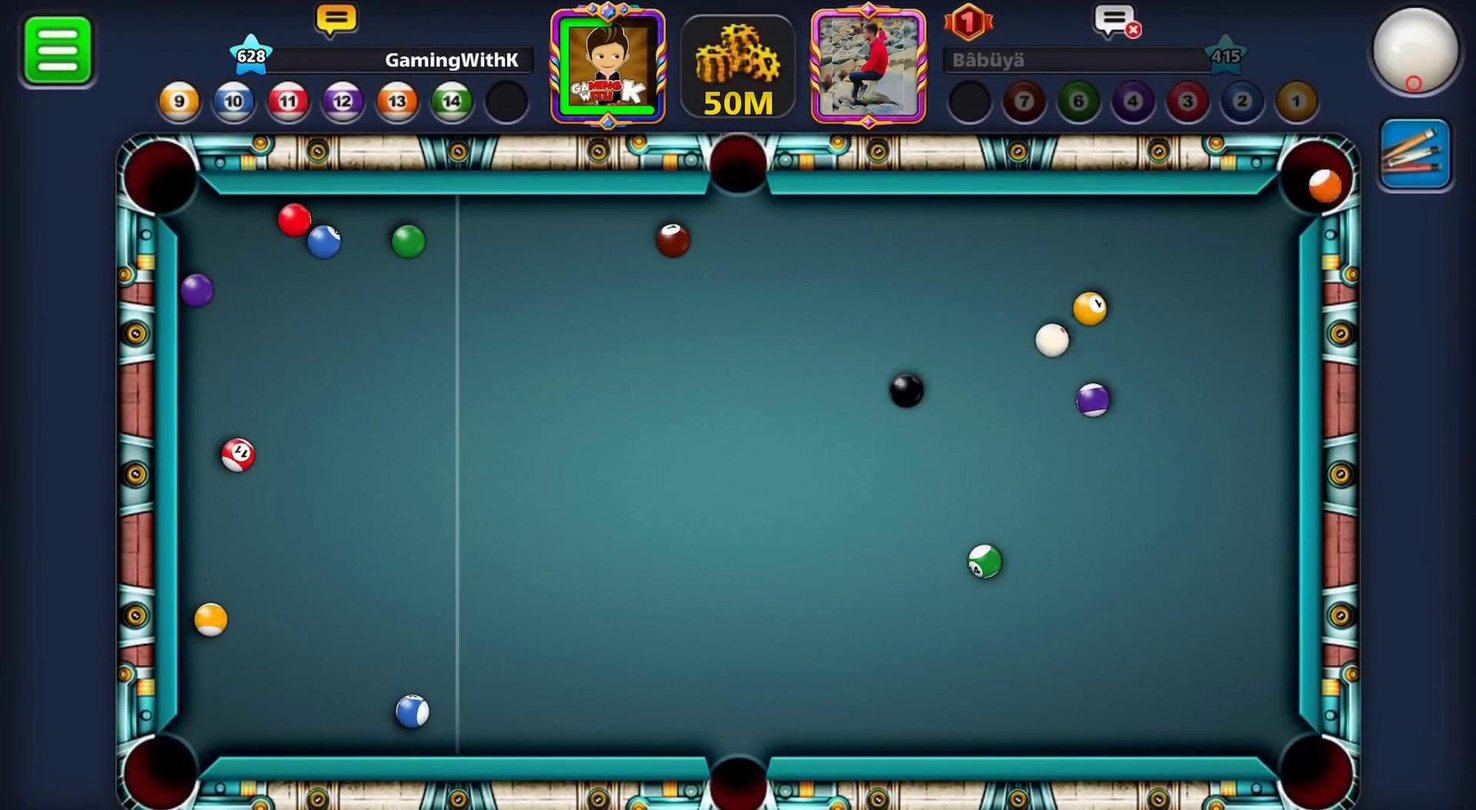Ball: (878, 365, 932, 415), (269, 193, 319, 244), (645, 217, 699, 262), (297, 221, 346, 268), (962, 539, 1005, 587), (176, 265, 217, 313), (1071, 286, 1112, 330), (391, 692, 430, 731), (191, 599, 229, 639), (1074, 380, 1111, 418), (387, 222, 425, 259), (218, 433, 254, 472)
Hole: (111, 123, 221, 233), (102, 718, 221, 809), (1261, 714, 1364, 809), (1269, 126, 1359, 226), (692, 125, 787, 216), (691, 739, 783, 809)
Play_Area: (177, 195, 1296, 758)
Spin: (1357, 0, 1474, 118)
White: (1031, 316, 1075, 359)
